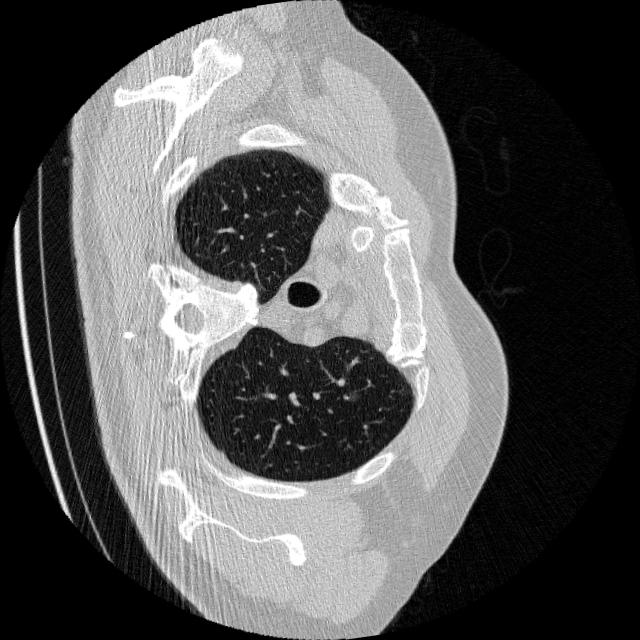nodule: (342, 381, 370, 409)
